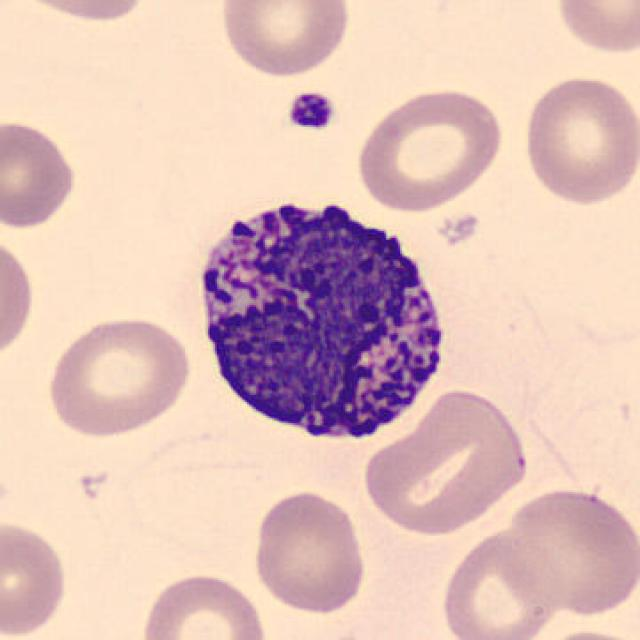Basophil: (186, 181, 458, 455)
Platelets: (282, 88, 340, 134)
RBC: (359, 384, 533, 540), (43, 310, 194, 441), (354, 85, 506, 215), (500, 483, 638, 619), (519, 71, 638, 208), (249, 487, 370, 617), (438, 525, 566, 640), (215, 0, 353, 79), (0, 115, 82, 232), (135, 569, 270, 640), (0, 515, 71, 638), (0, 227, 37, 366), (552, 0, 638, 56), (5, 0, 160, 25), (528, 626, 638, 640)
